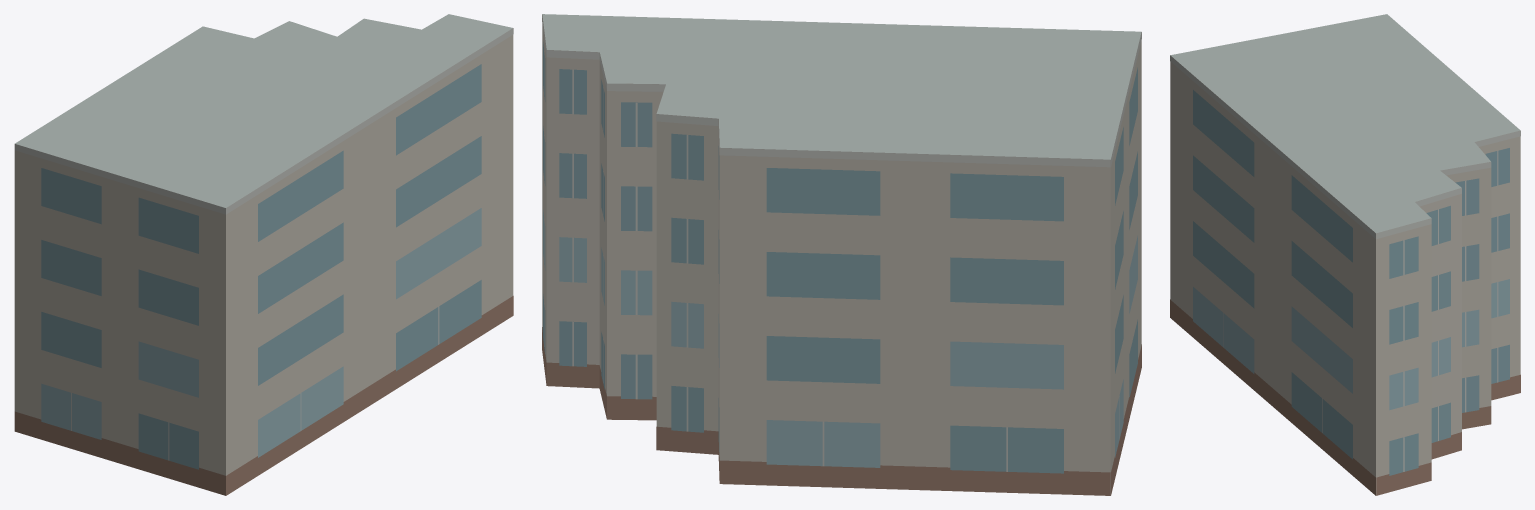
Rendered from survey-upis-32514265.glb.
The picture shows the model from 3 angles, left to right: view 1: azimuth 30°, elevation 25°; view 2: azimuth 150°, elevation 25°; view 3: azimuth 270°, elevation 25°; orthographic projection. The views are drawn at different scales.
Parts seen in each view (by area): view 1: survey-upis-32514265.tmp; view 2: survey-upis-32514265.tmp; view 3: survey-upis-32514265.tmp.
Part boxes in pixels (x1,y1,x2,y2): survey-upis-32514265.tmp: [14, 14, 513, 495]; survey-upis-32514265.tmp: [542, 14, 1141, 495]; survey-upis-32514265.tmp: [1170, 14, 1520, 495].
Bounding box in the file's own units: 19.36 × 10.8 × 13.08.
